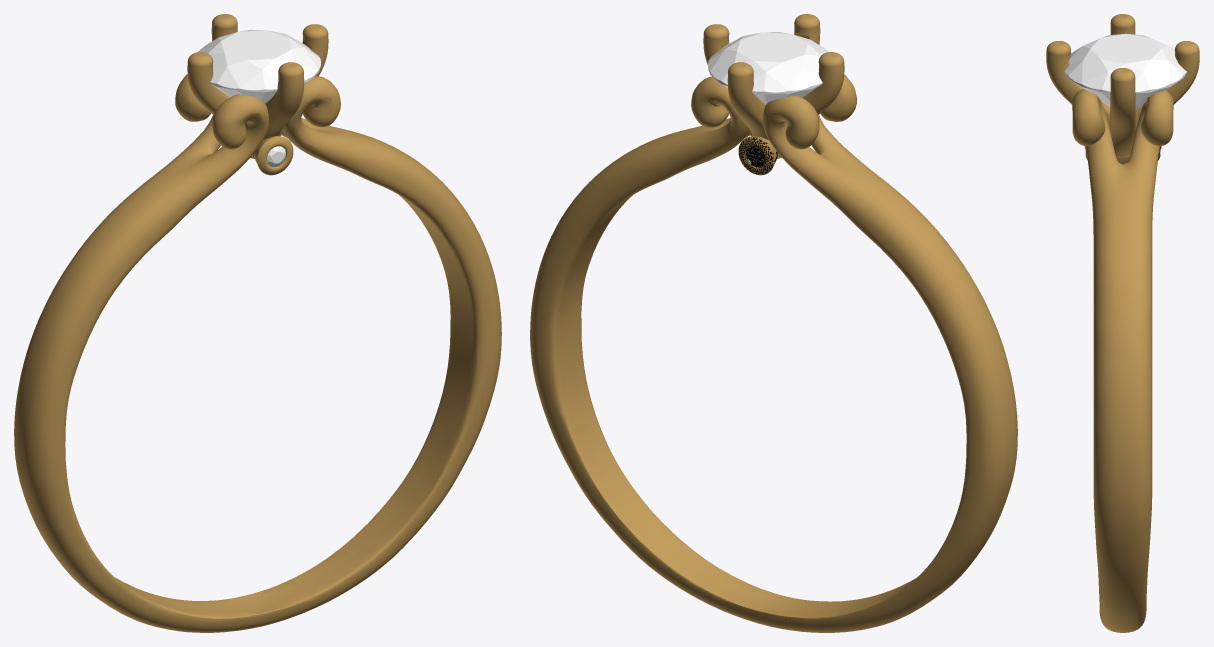
3 renders of one model, left to right at view 1: azimuth 30°, elevation 25°; view 2: azimuth 150°, elevation 25°; view 3: azimuth 270°, elevation 25°, orthographic. The views are drawn at different scales.
Parts seen in each view (by area): view 1: 08_Angel_503dm; view 2: 08_Angel_503dm; view 3: 08_Angel_503dm.
Part boxes in pixels (bbox=[...]): 08_Angel_503dm: bbox=[14, 14, 501, 632]; 08_Angel_503dm: bbox=[530, 14, 1017, 632]; 08_Angel_503dm: bbox=[1046, 14, 1199, 632].
Bounding box in the file's own units: 2.55 × 2.99 × 0.7385.
